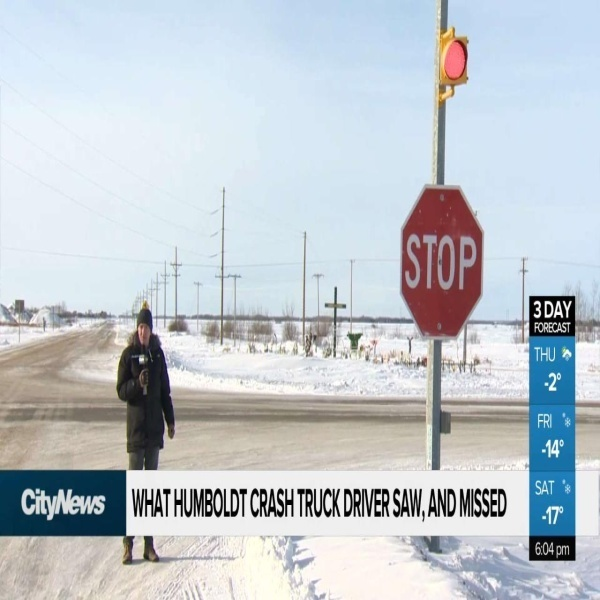stop: (408, 187, 488, 350)
